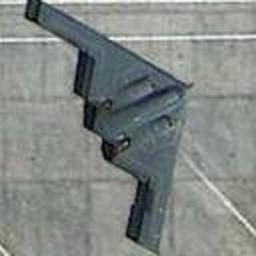Airplane: (26, 0, 199, 256)
